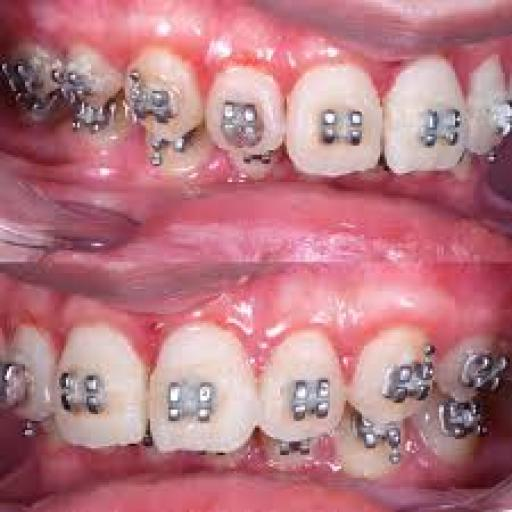correct_brace: (124, 64, 199, 140), (437, 328, 509, 407), (304, 97, 379, 157), (54, 368, 119, 420), (280, 366, 332, 426), (416, 96, 466, 155), (166, 374, 219, 428), (385, 354, 434, 406), (213, 93, 263, 143)
incorrect_brace: (250, 330, 344, 439), (196, 69, 281, 158), (460, 347, 508, 399), (120, 72, 174, 116)
